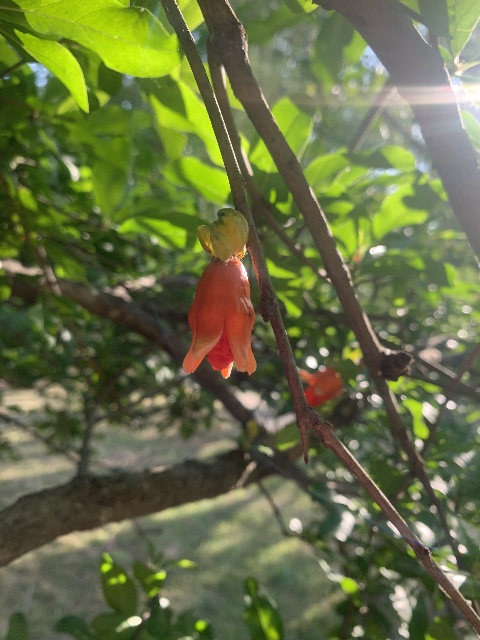flower: (182, 255, 257, 377), (299, 366, 343, 407)
